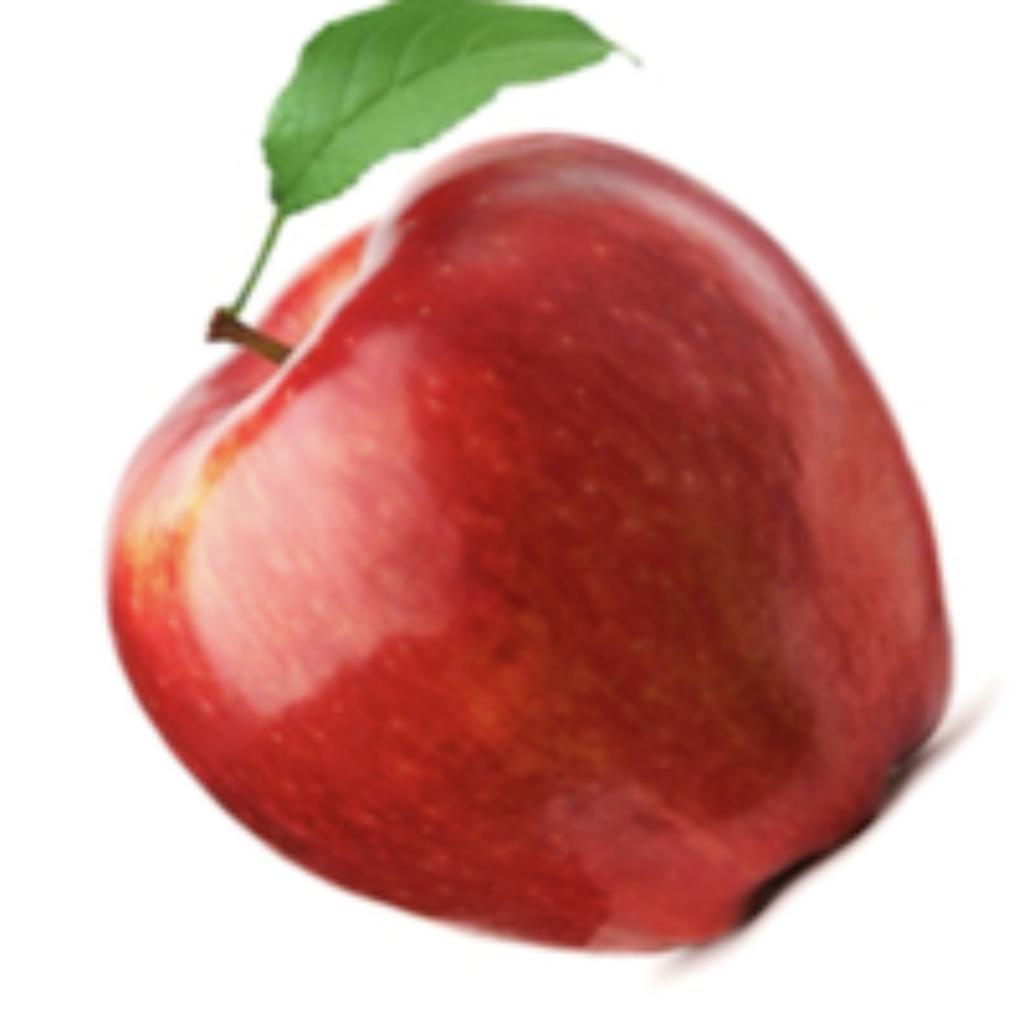apple: (92, 0, 1004, 988)
